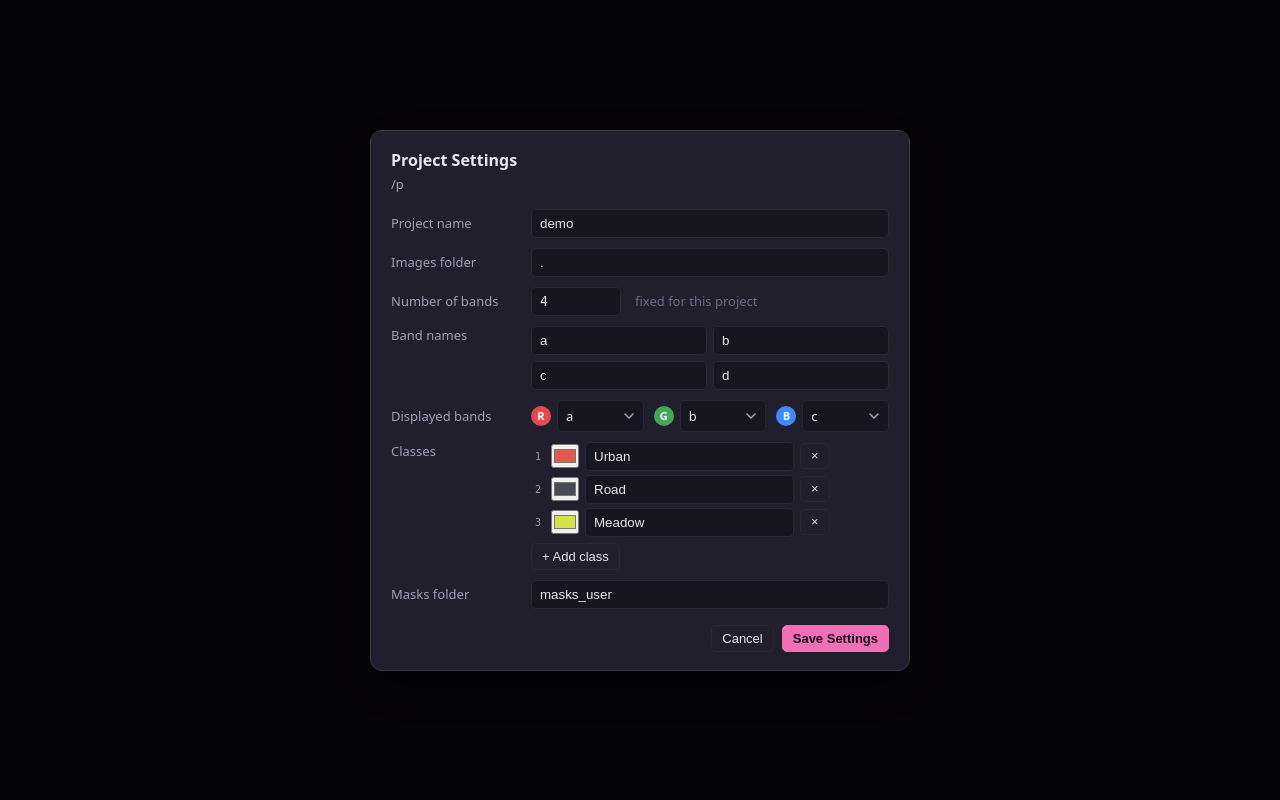
the class list › adds and removes rows
Step 1. Click the button "+ Add class" → (575, 556), box [531,542,620,570]
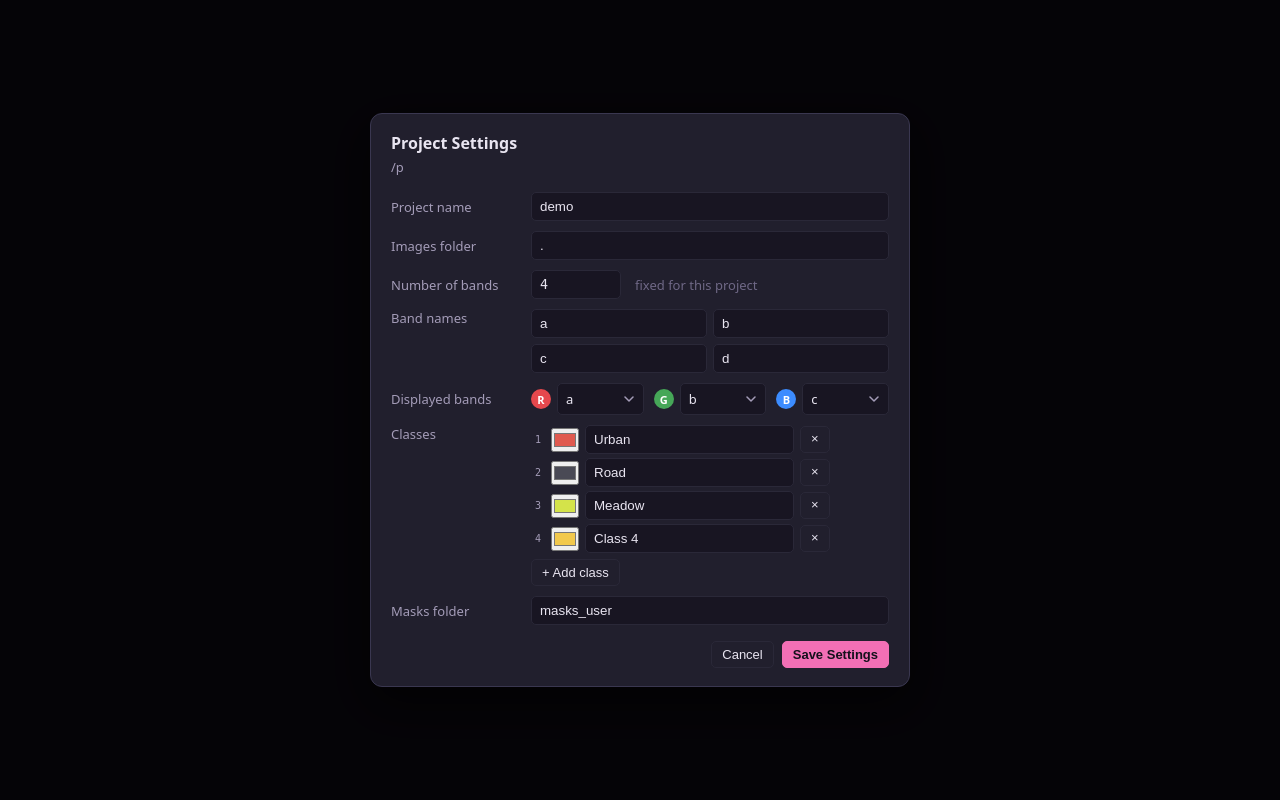
Result: the number of elements with class "class-row" is 4 at [531,425,830,454]; [531,458,830,487]; [531,491,830,520]; [531,524,830,553]
Step 2. Click the 4th button with class "class-row-remove" → (815, 538), box [800,525,830,552]
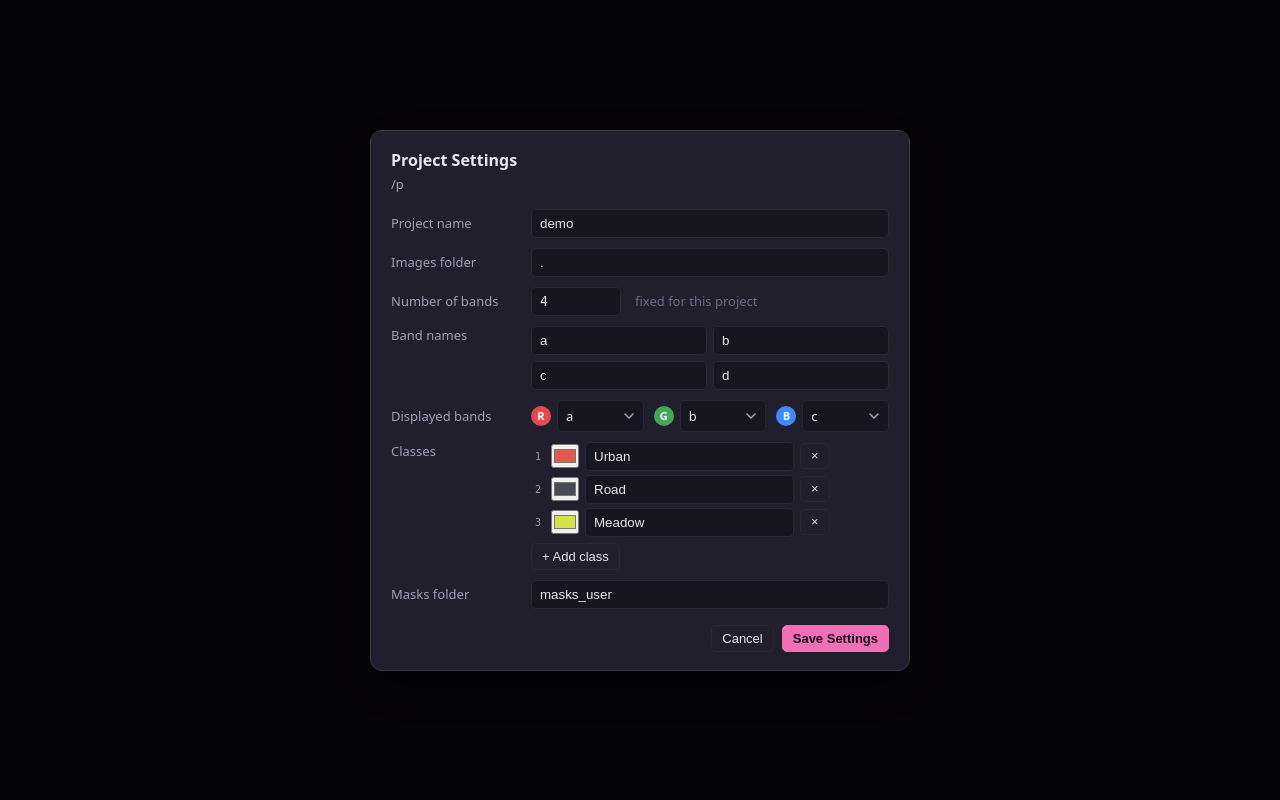
Result: the number of elements with class "class-row" is 3 at [531,442,830,470]; [531,474,830,504]; [531,508,830,536]
